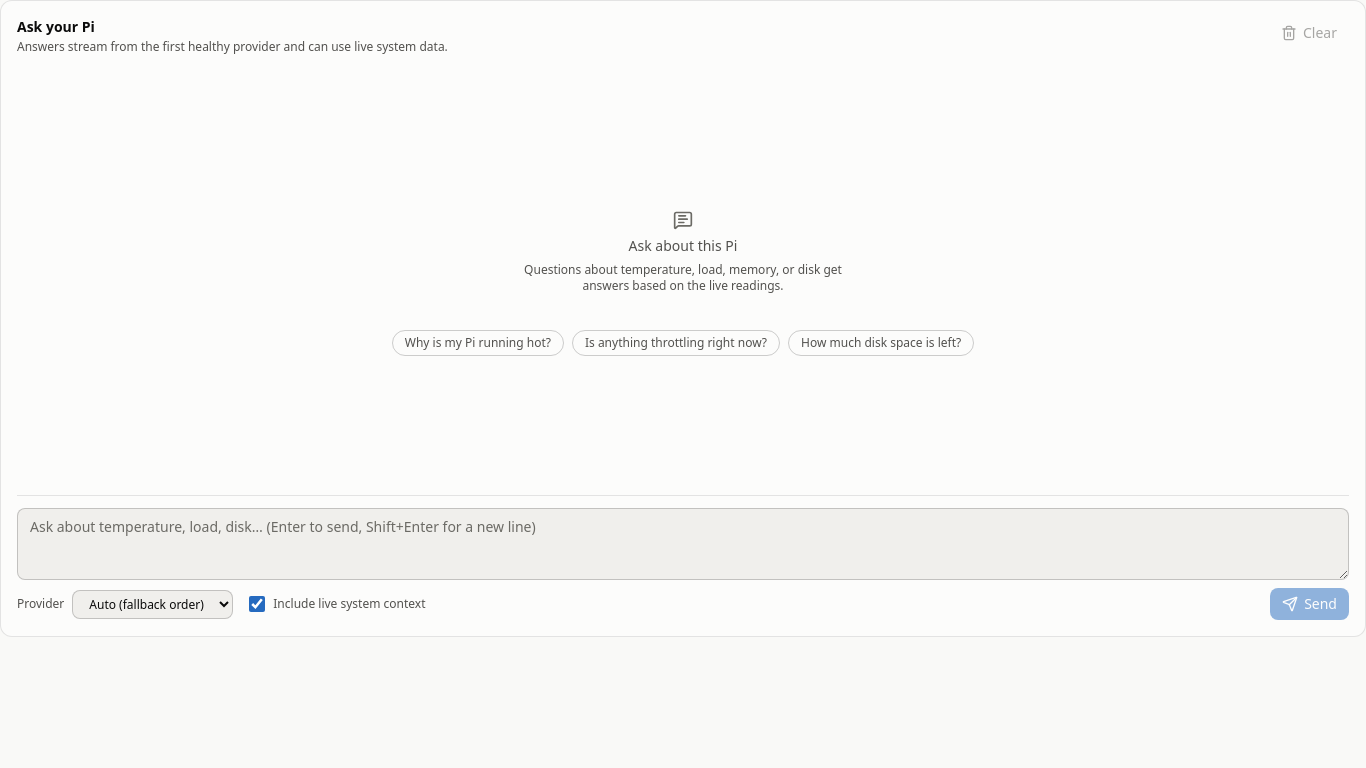
Test: ChatPanel › stops a streaming answer and keeps the partial text
In the text box named "Message": (683, 544) [17,508,1349,580], type "Long question"
Then press Enter
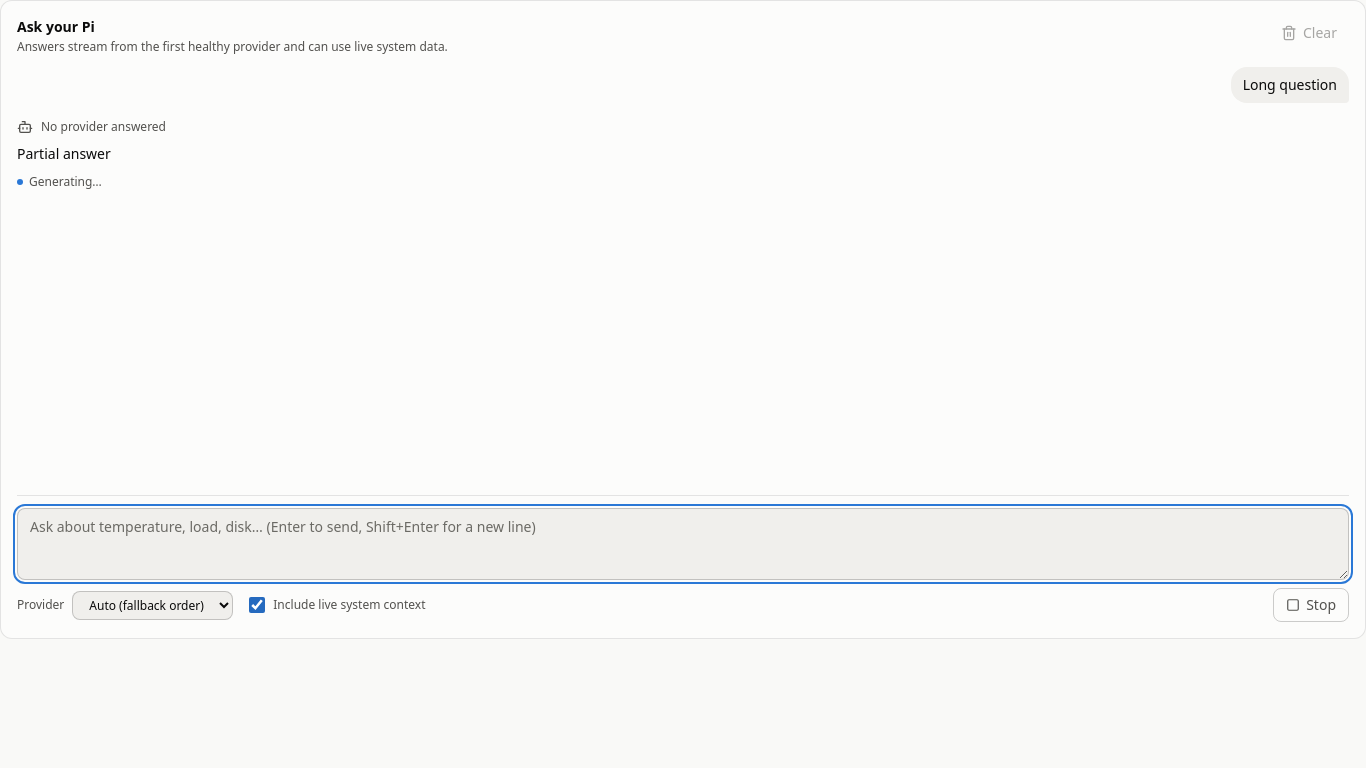
Expected: the text "Partial answer" is shown, [17,144,111,163]
Click the button "Stop": (1311, 605) [1273,588,1349,622]
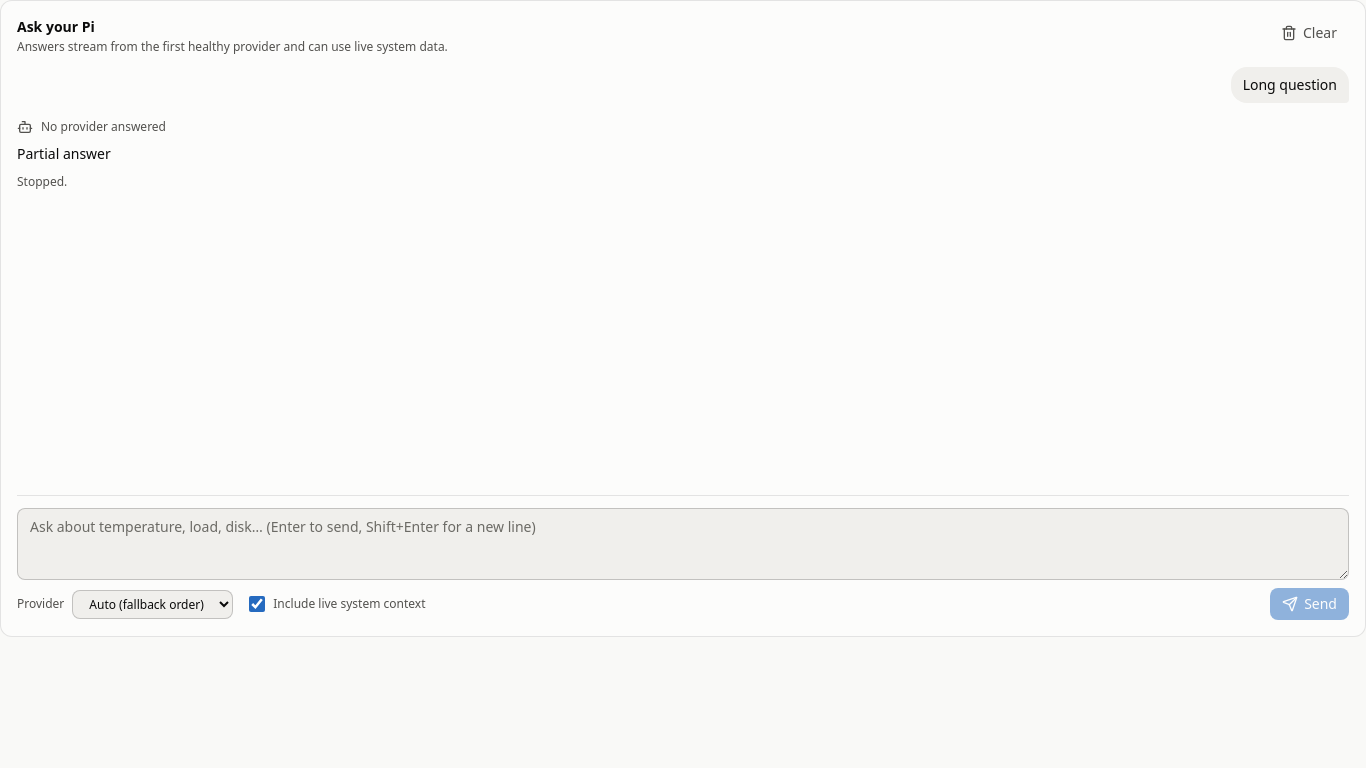
Expected: the text "Partial answer" is shown, [17,144,111,163]
Expected: the text "Stopped." is shown, [17,173,67,190]
Expected: the button "Send" is shown, [1270,588,1349,620]
